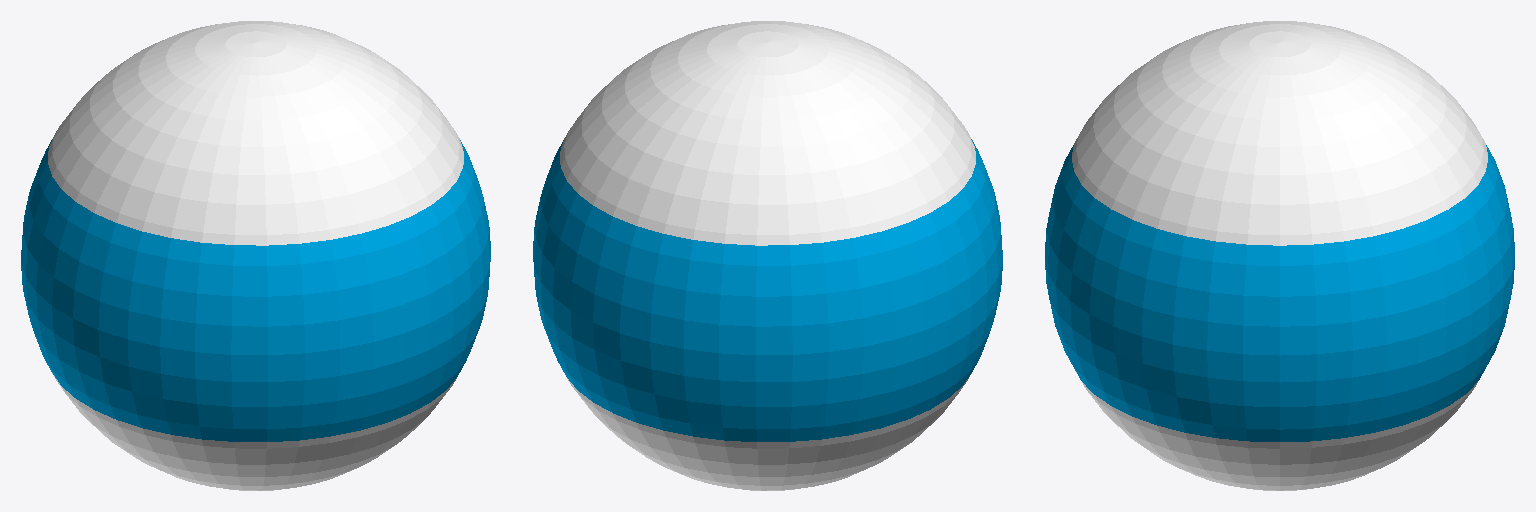
3 views of the same model, side by side, from view 1: azimuth 30°, elevation 25°; view 2: azimuth 150°, elevation 25°; view 3: azimuth 270°, elevation 25° (orthographic).
Parts seen in each view (by area): view 1: 球_球.001; view 2: 球_球.001; view 3: 球_球.001.
Part boxes in pixels (x1,y1,x2,y2): 球_球.001: (21,21,490,490); 球_球.001: (533,21,1002,490); 球_球.001: (1045,21,1514,490).
Bounding box in the file's own units: 2 × 2 × 2.
Materials: 1 (1 with a texture image).